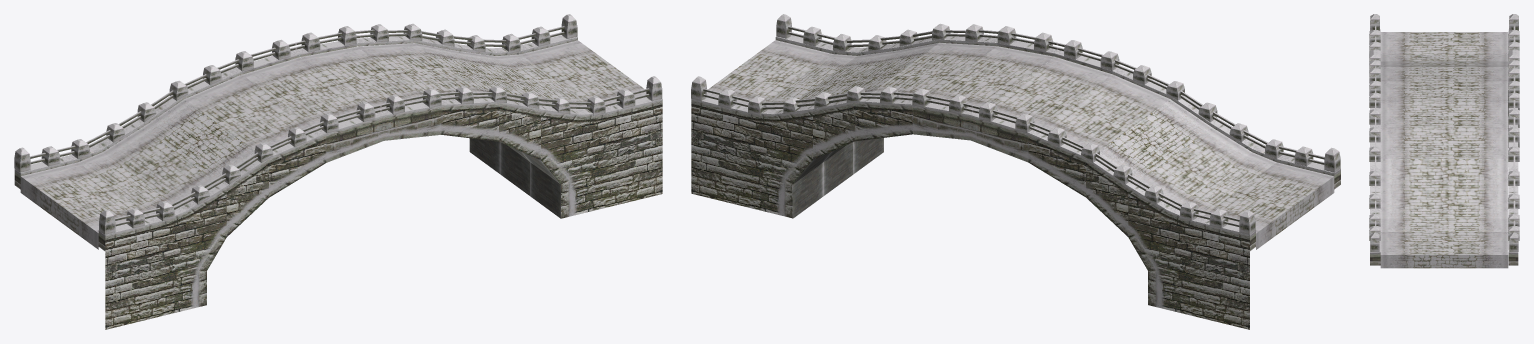
The model's file is nsm-10m-bridge02.glb.
3 renders of one model, left to right at view 1: azimuth 30°, elevation 25°; view 2: azimuth 150°, elevation 25°; view 3: azimuth 270°, elevation 25°, orthographic. The views are drawn at different scales.
Parts seen in each view (by area): view 1: nsm-10m-bridge02, nsm-10m-bridge01; view 2: nsm-10m-bridge02, nsm-10m-bridge01; view 3: nsm-10m-bridge02.
Boxes of the visible parts, box(x1,y1,x2,y2) form: nsm-10m-bridge02: box(14, 14, 662, 250); nsm-10m-bridge01: box(20, 37, 662, 329); nsm-10m-bridge02: box(691, 14, 1340, 250); nsm-10m-bridge01: box(691, 37, 1334, 329); nsm-10m-bridge02: box(1369, 14, 1519, 268).
Size of the model in its own units: 28.93 by 7.94 by 8.24.
Materials: 2 (2 with a texture image).
